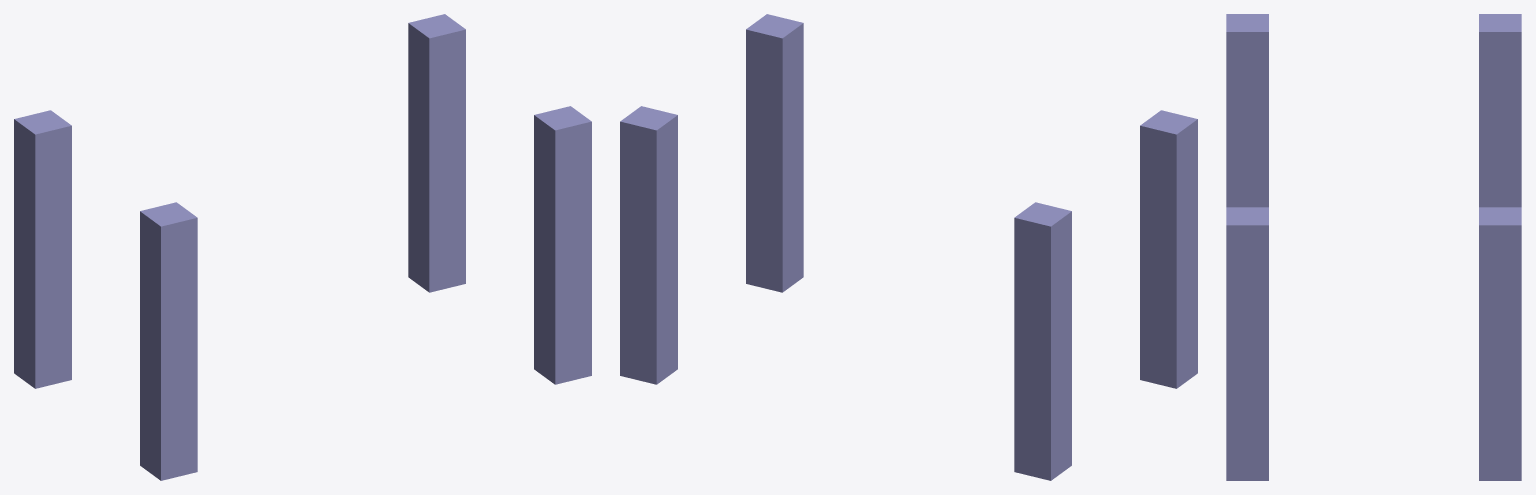
Rendered from DumpCoreCoverLeg.gltf.
3 renders of one model, left to right at view 1: azimuth 30°, elevation 25°; view 2: azimuth 150°, elevation 25°; view 3: azimuth 270°, elevation 25°, orthographic.
Visible parts, largest first — view 1: logicDumpCoreCoverLeg_pv0x2213678, logicDumpCoreCoverLeg_pv0x2213720, logicDumpCoreCoverLeg_pv0x22136b0, logicDumpCoreCoverLeg_pv0x22136e8; view 2: logicDumpCoreCoverLeg_pv0x22136b0, logicDumpCoreCoverLeg_pv0x22136e8, logicDumpCoreCoverLeg_pv0x2213678, logicDumpCoreCoverLeg_pv0x2213720; view 3: logicDumpCoreCoverLeg_pv0x22136e8, logicDumpCoreCoverLeg_pv0x2213720, logicDumpCoreCoverLeg_pv0x2213678, logicDumpCoreCoverLeg_pv0x22136b0.
Boxes of the visible parts, x1,y1,x2,y2 form: logicDumpCoreCoverLeg_pv0x2213678: (14,110,71,388); logicDumpCoreCoverLeg_pv0x2213720: (534,106,591,384); logicDumpCoreCoverLeg_pv0x22136b0: (140,202,197,480); logicDumpCoreCoverLeg_pv0x22136e8: (408,14,465,292); logicDumpCoreCoverLeg_pv0x22136b0: (1140,110,1197,388); logicDumpCoreCoverLeg_pv0x22136e8: (620,106,677,384); logicDumpCoreCoverLeg_pv0x2213678: (1014,202,1071,480); logicDumpCoreCoverLeg_pv0x2213720: (746,14,803,292); logicDumpCoreCoverLeg_pv0x22136e8: (1479,207,1521,480); logicDumpCoreCoverLeg_pv0x2213720: (1226,207,1268,480); logicDumpCoreCoverLeg_pv0x2213678: (1479,14,1521,207); logicDumpCoreCoverLeg_pv0x22136b0: (1226,14,1268,207).
Bounding box in the file's own units: 118 × 66.36 × 69.48.
